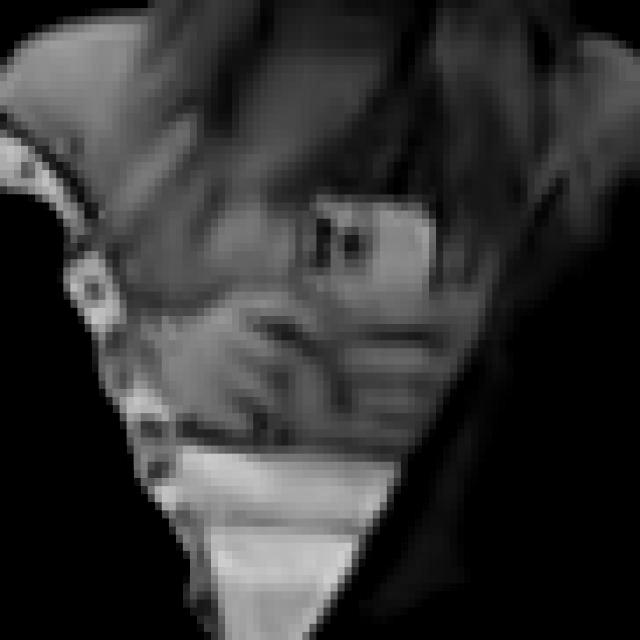fake: (298, 192, 440, 464)
